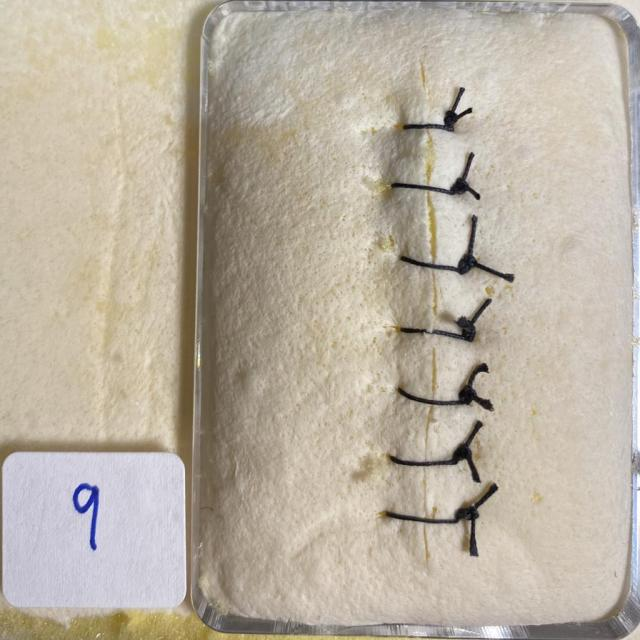knot: (456, 506, 479, 522), (459, 386, 477, 406), (457, 255, 477, 273), (453, 445, 472, 462), (450, 179, 469, 194), (444, 111, 458, 130), (462, 323, 476, 342)
leftover: (461, 296, 493, 340), (453, 419, 482, 463), (464, 482, 498, 519), (460, 364, 489, 406), (464, 261, 516, 282), (453, 453, 483, 485), (444, 85, 465, 128), (455, 150, 474, 195), (464, 212, 476, 273), (443, 106, 473, 128), (460, 393, 495, 411), (456, 315, 474, 342), (455, 185, 482, 200), (470, 512, 476, 559)
stitch: (395, 385, 473, 406), (398, 255, 470, 273), (383, 511, 480, 523), (398, 327, 475, 342), (387, 453, 463, 467), (388, 183, 465, 196), (400, 123, 455, 130)
wound: (419, 64, 438, 567)
